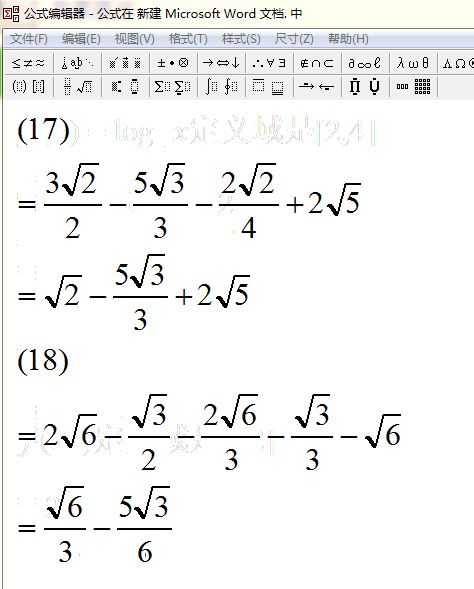division: (43, 198, 101, 213), (116, 523, 174, 536), (220, 199, 282, 211), (109, 290, 169, 302), (124, 432, 171, 446), (132, 200, 190, 210), (202, 434, 261, 443), (289, 430, 332, 441), (42, 526, 84, 534)
sqrt: (46, 480, 91, 520), (366, 409, 405, 452), (240, 160, 283, 198), (136, 389, 175, 430), (62, 410, 100, 452), (328, 180, 370, 217), (133, 481, 172, 520), (149, 160, 186, 200), (293, 390, 330, 430), (131, 252, 170, 289), (44, 272, 85, 307), (63, 159, 97, 201), (218, 274, 257, 310), (225, 390, 260, 429)
